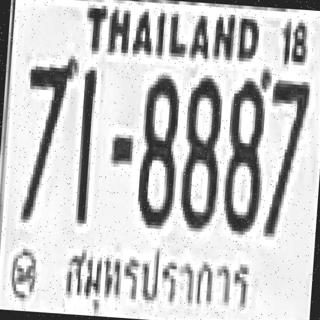N01: (75, 66, 96, 201)
N07: (20, 54, 76, 217), (262, 76, 309, 229), (21, 54, 77, 178), (265, 76, 308, 180)
N08: (134, 70, 181, 226), (220, 76, 267, 232), (177, 74, 224, 229)
P57: (58, 235, 256, 320)
